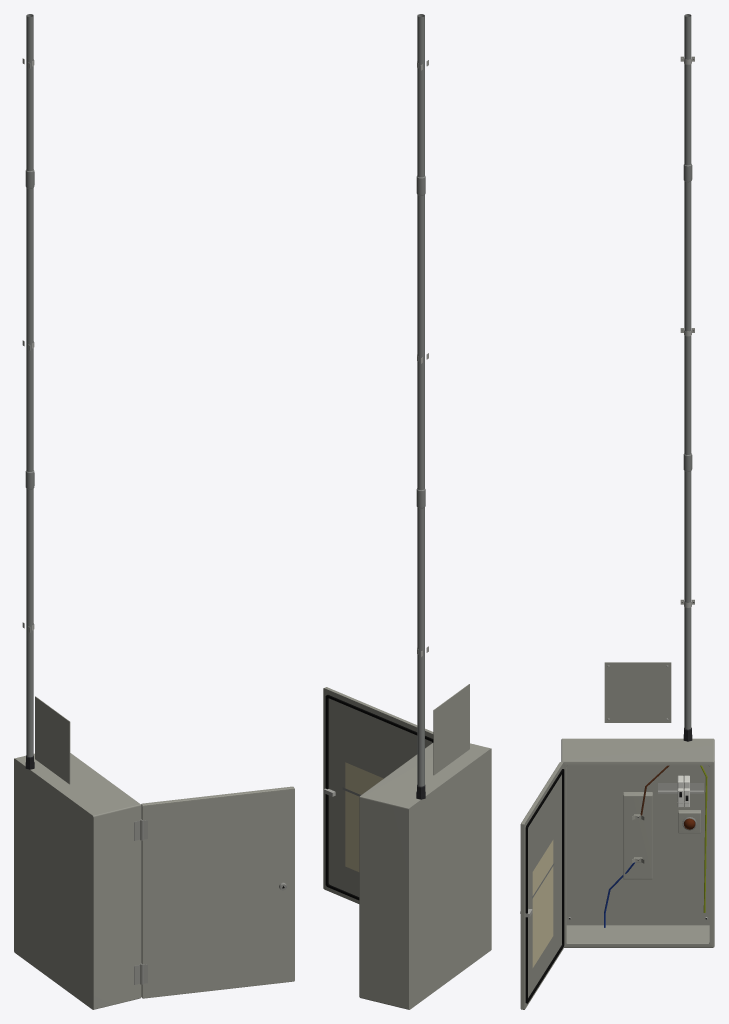
The model's file is item_fusebox_empty.glb.
The picture shows the model from 3 angles, left to right: view 1: azimuth 30°, elevation 25°; view 2: azimuth 150°, elevation 25°; view 3: azimuth 270°, elevation 25°; orthographic projection. The views are drawn at different scales.
Parts seen in each view (by area): view 1: sicherungskasten; view 2: sicherungskasten; view 3: sicherungskasten.
Part boxes in pixels (<box>): sicherungskasten: <box>14,14,294,1009</box>; sicherungskasten: <box>323,14,491,1009</box>; sicherungskasten: <box>520,14,714,1009</box>.
Bounding box in the file's own units: 0.6129 × 3.05 × 0.5834.
